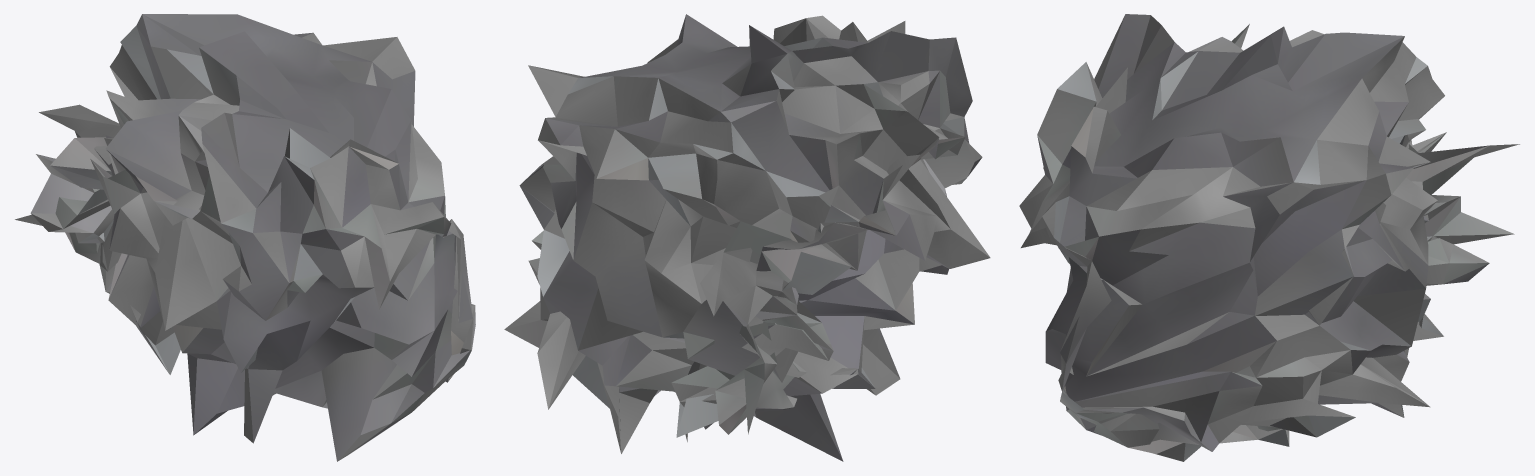
The model's file is IronOre.glb.
3 renders of one model, left to right at view 1: azimuth 30°, elevation 25°; view 2: azimuth 150°, elevation 25°; view 3: azimuth 270°, elevation 25°, orthographic. The views are drawn at different scales.
Visible parts, largest first — view 1: Iron; view 2: Iron; view 3: Iron.
Boxes of the visible parts, box(x1,y1,x2,y2) form: Iron: box(15, 14, 475, 461); Iron: box(504, 14, 990, 461); Iron: box(1019, 14, 1519, 461).
Bounding box in the file's own units: 0.9778 × 1.02 × 1.16.
Materials: 1 (1 with a texture image).
